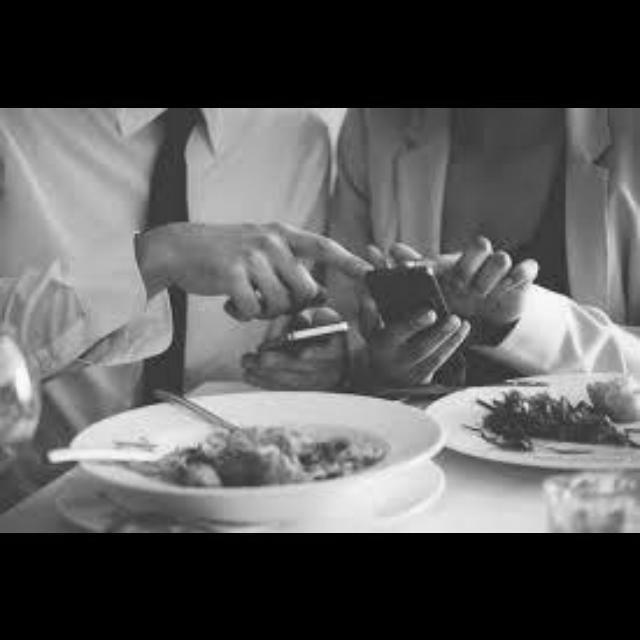fake: (348, 248, 493, 355), (256, 300, 358, 370)
